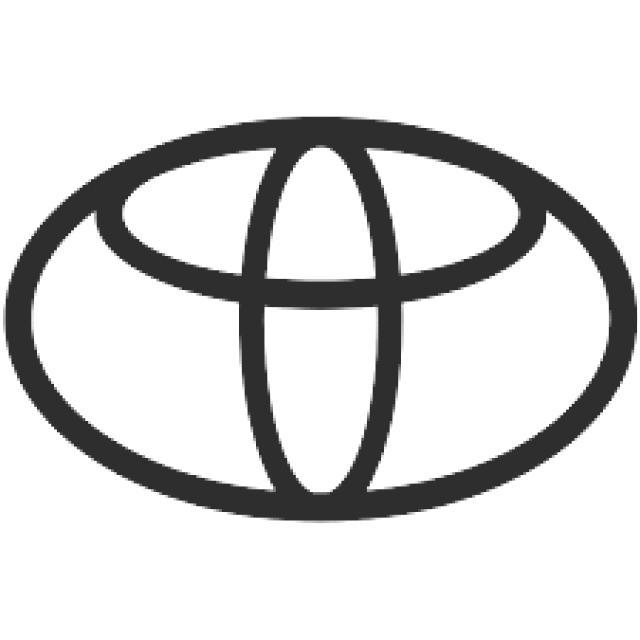toyota: (0, 86, 640, 540)
